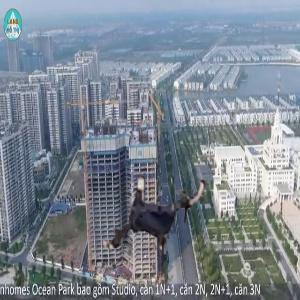drone: (96, 158, 213, 275)
